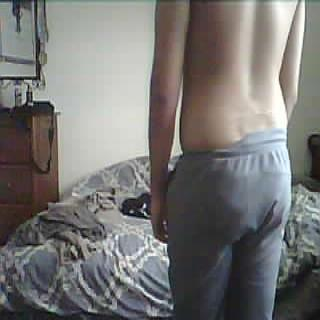Blue Sweatpants: (168, 137, 294, 320)
